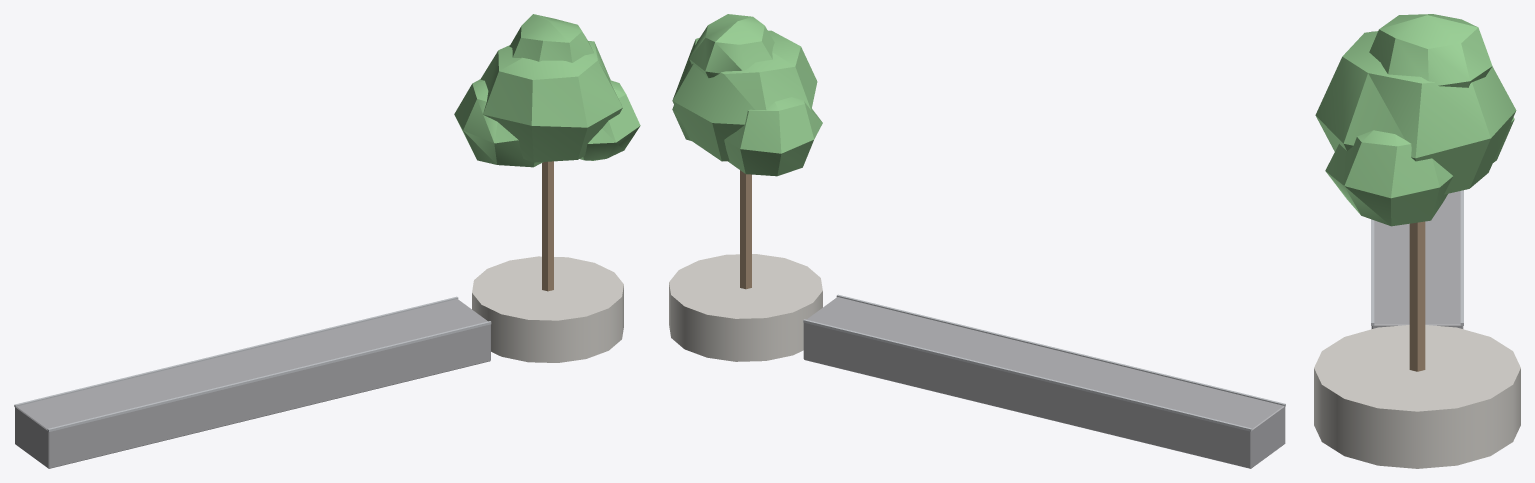
File: plaza_ledge_planter.glb
3 renders of one model, left to right at view 1: azimuth 30°, elevation 25°; view 2: azimuth 150°, elevation 25°; view 3: azimuth 270°, elevation 25°, orthographic. The views are drawn at different scales.
Visible parts, largest first — view 1: body; view 2: body; view 3: body.
Boxes of the visible parts, left/top/right/bottom form: body: left=14, top=14, right=640, bottom=468; body: left=669, top=14, right=1285, bottom=468; body: left=1314, top=14, right=1520, bottom=468.
Bounding box in the file's own units: 8.04 × 3.96 × 1.8.
